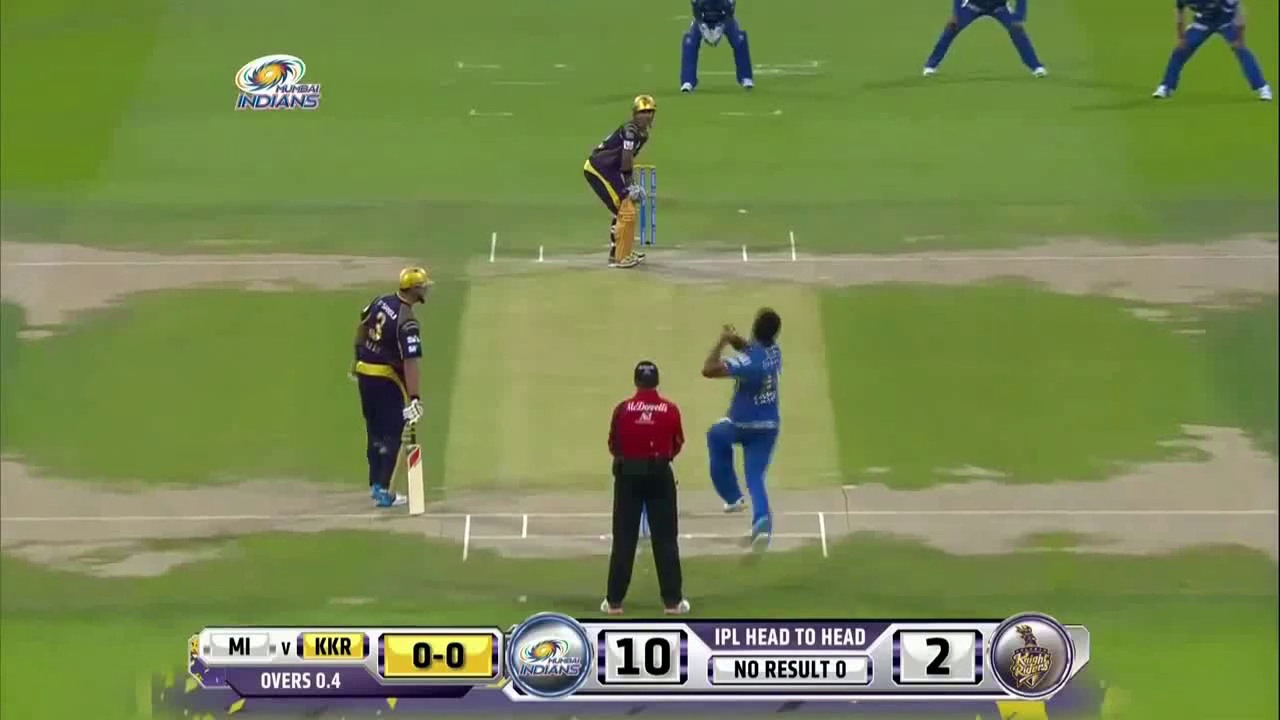bat: (407, 426, 427, 517)
